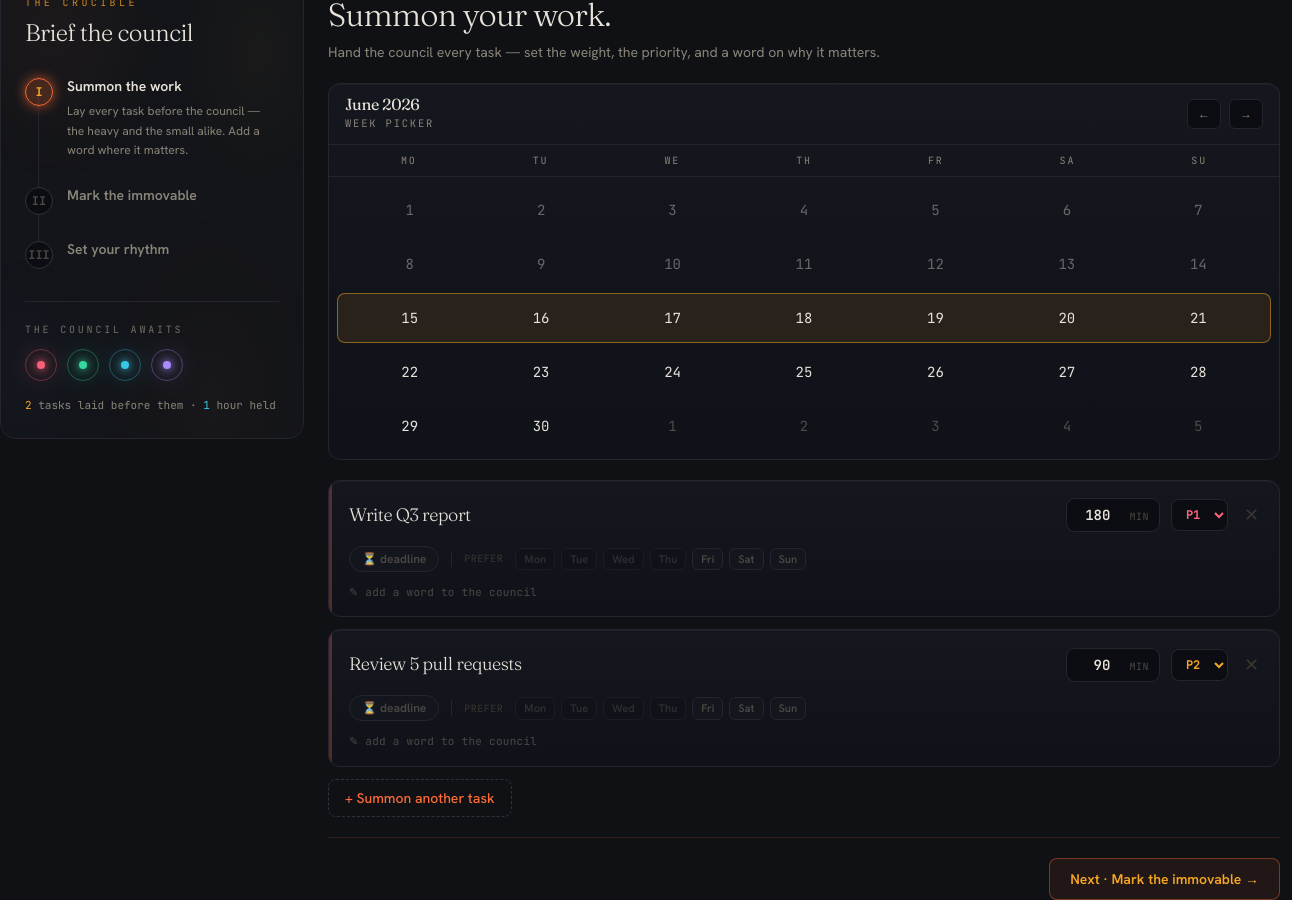
Test: TaskForm › prefills the rhythm step from initialPrefs
The width and height of the screenshot is (1292, 900).
(page scrolled)
Click the button "Next · Mark the immovable →".
click(1165, 879)  # box [1049, 858, 1280, 899]
(page scrolled)
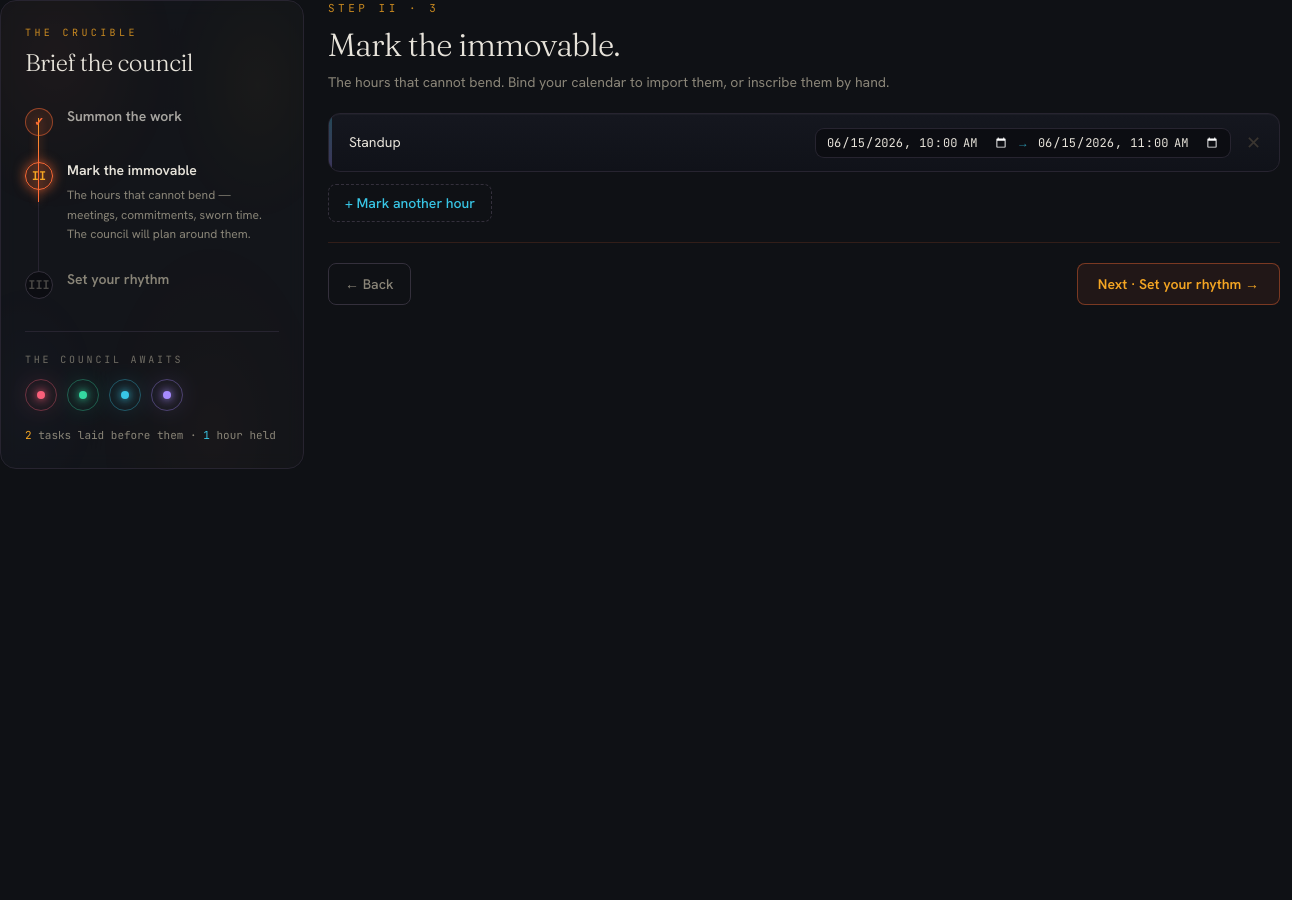
Click the button "Next · Set your rhythm →".
click(1178, 284)  # box [1077, 263, 1280, 305]
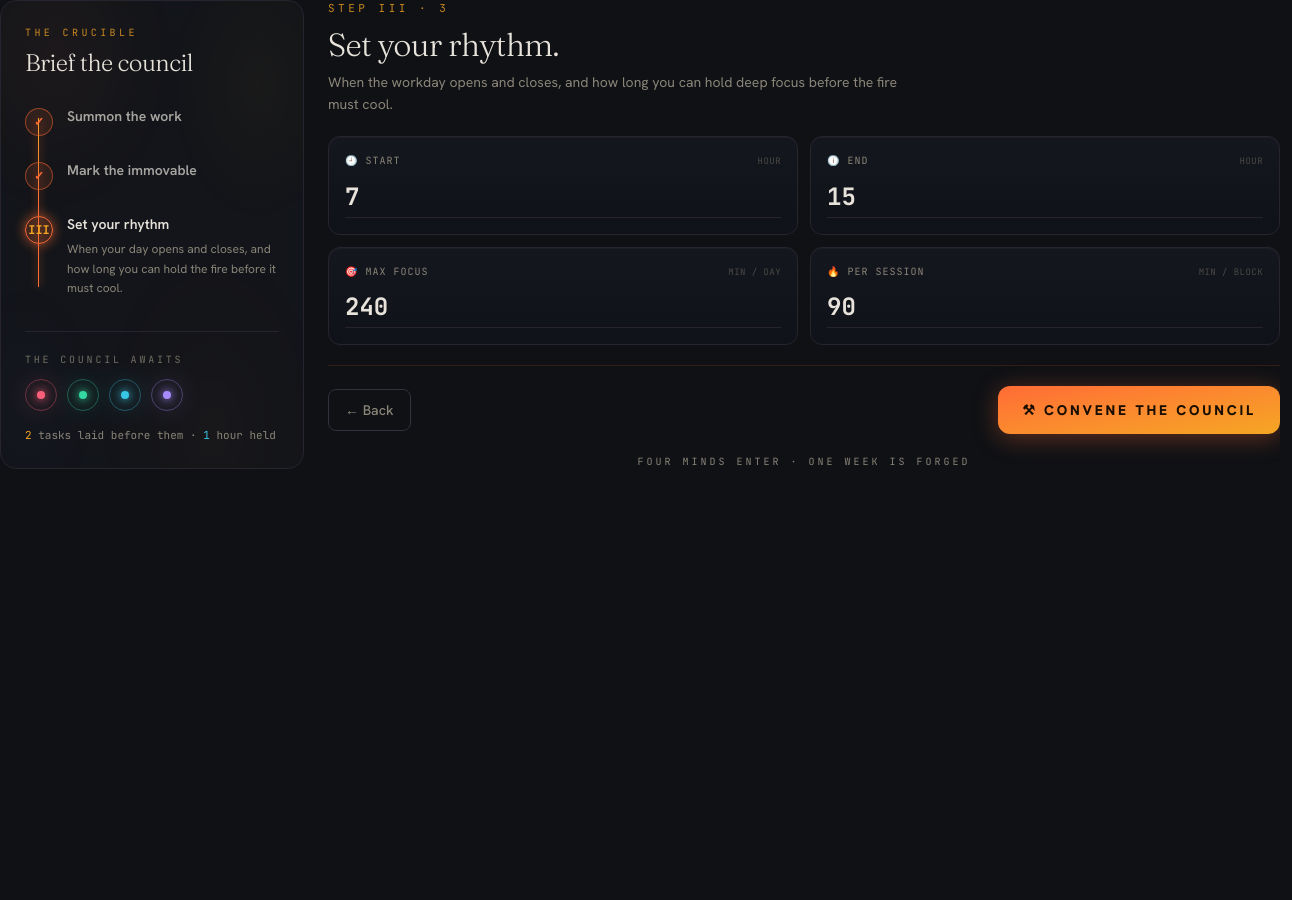
Check: the number field with test id "pref-start" holds "7", box [345, 176, 781, 218]
Check: the number field with test id "pref-end" holds "15", box [827, 176, 1263, 218]
Check: the number field with test id "pref-focus" holds "240", box [345, 287, 781, 328]
